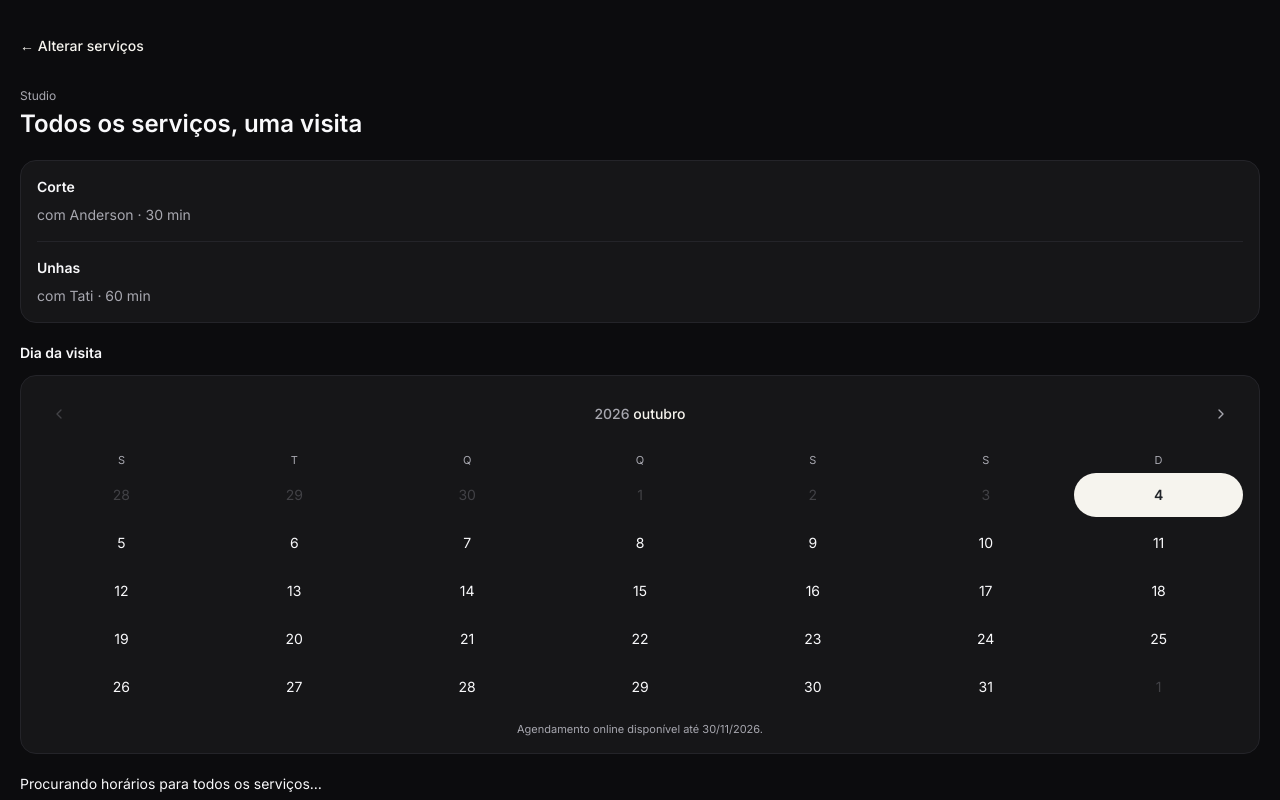
Test: descarta resposta antiga depois de mudar de dia
Click the button named "segunda-feira, 5 de outubro de 2026".
click(121, 542)  # box [37,520,206,564]
(page scrolled)
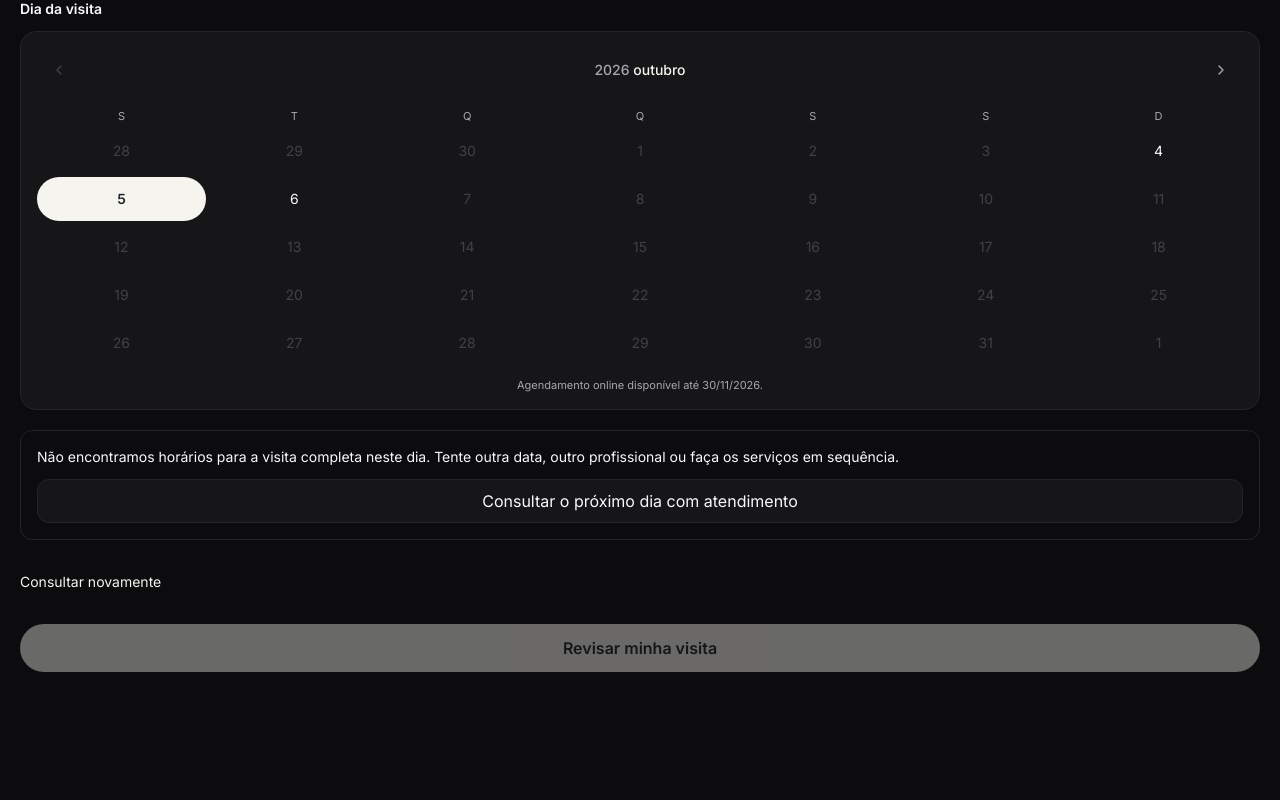
Now the text "Não encontramos horários" is shown, box [37,448,899,465]
